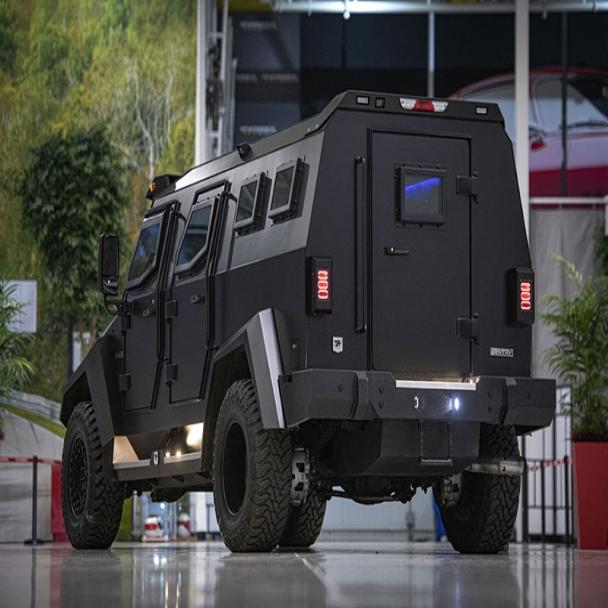Mobil: (57, 93, 559, 560)
